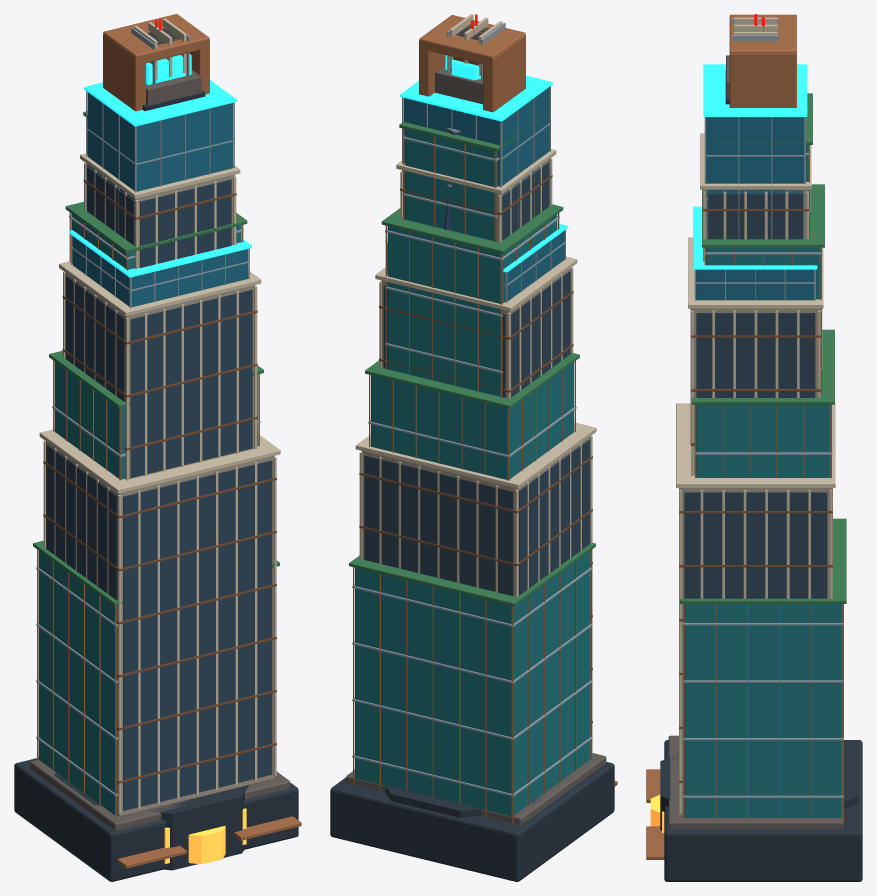
Rendered from SM_SolCity_MegaSkyscrapers_01.fbx.
3 renders of one model, left to right at view 1: azimuth 30°, elevation 25°; view 2: azimuth 150°, elevation 25°; view 3: azimuth 270°, elevation 25°, orthographic.
Parts seen in each view (by area): view 1: SM_SolCity_MegaNewYorkSetback_01, SM_SolCity_MegaPodiumCrown_01, SM_SolCity_MegaGlassCurtainwall_01, SM_SolCity_MegaGeometricTwist_01; view 2: SM_SolCity_MegaPodiumCrown_01, SM_SolCity_MegaNewYorkSetback_01, SM_SolCity_MegaGlassCurtainwall_01, SM_SolCity_MegaGeometricTwist_01; view 3: SM_SolCity_MegaPodiumCrown_01, SM_SolCity_MegaNewYorkSetback_01, SM_SolCity_MegaGlassCurtainwall_01, SM_SolCity_MegaGeometricTwist_01.
Boxes of the visible parts, x1,y1,x2,y2 form: SM_SolCity_MegaNewYorkSetback_01: [30, 18, 290, 830]; SM_SolCity_MegaPodiumCrown_01: [14, 14, 301, 881]; SM_SolCity_MegaGlassCurtainwall_01: [69, 27, 251, 307]; SM_SolCity_MegaGeometricTwist_01: [54, 772, 249, 870]; SM_SolCity_MegaPodiumCrown_01: [330, 15, 617, 881]; SM_SolCity_MegaNewYorkSetback_01: [346, 14, 606, 825]; SM_SolCity_MegaGlassCurtainwall_01: [385, 22, 567, 302]; SM_SolCity_MegaGeometricTwist_01: [385, 59, 546, 817]; SM_SolCity_MegaPodiumCrown_01: [646, 14, 862, 881]; SM_SolCity_MegaNewYorkSetback_01: [668, 14, 843, 829]; SM_SolCity_MegaGlassCurtainwall_01: [693, 18, 817, 300]; SM_SolCity_MegaGeometricTwist_01: [650, 111, 858, 830].
Size of the model in its own units: 56 by 54.5 by 228.
